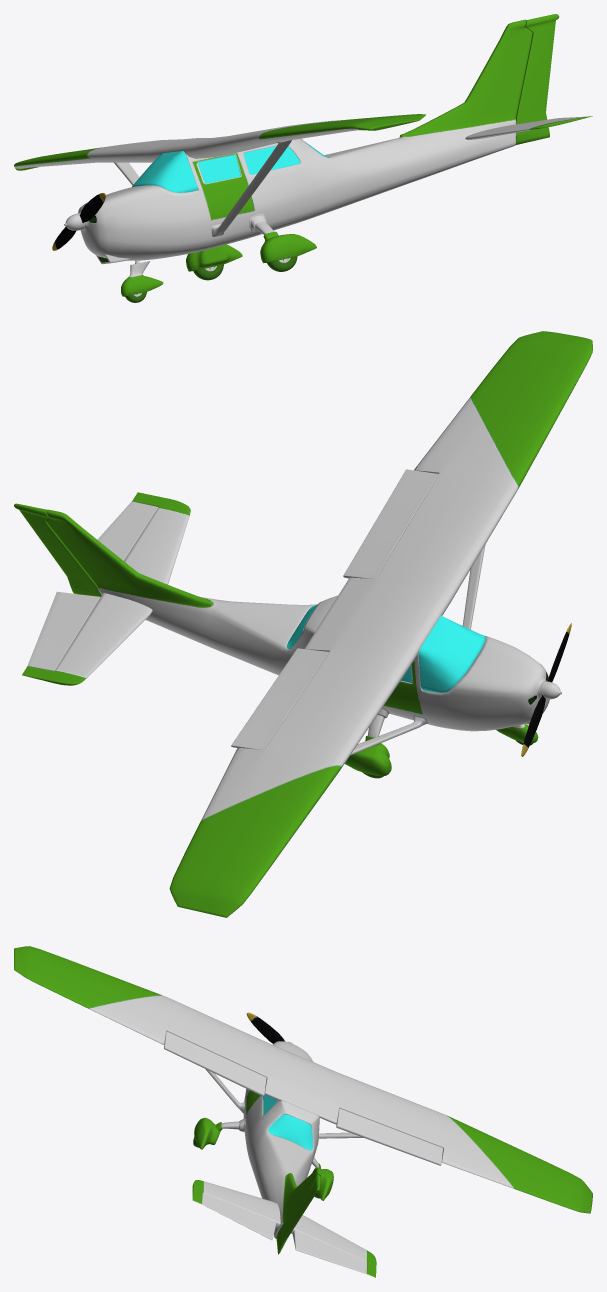
3 views of the same model, one above another, from view 1: azimuth 30°, elevation 25°; view 2: azimuth 150°, elevation 25°; view 3: azimuth 270°, elevation 25° (orthographic). The views are drawn at different scales.
Visible parts, largest first — view 1: 11804_Airplane_v2_l2, 11804_Airplane_v2_l2.001; view 2: 11804_Airplane_v2_l2, 11804_Airplane_v2_l2.001; view 3: 11804_Airplane_v2_l2, 11804_Airplane_v2_l2.001.
Part boxes in pixels (x1,y1,x2,y2): 11804_Airplane_v2_l2: [14, 14, 592, 302]; 11804_Airplane_v2_l2.001: [52, 193, 105, 250]; 11804_Airplane_v2_l2: [14, 331, 592, 917]; 11804_Airplane_v2_l2.001: [521, 623, 571, 756]; 11804_Airplane_v2_l2: [14, 946, 592, 1277]; 11804_Airplane_v2_l2.001: [246, 1012, 292, 1043].
Bounding box in the file's own units: 2.37 × 1.34 × 2.84.
Materials: 3 (3 with a texture image).
